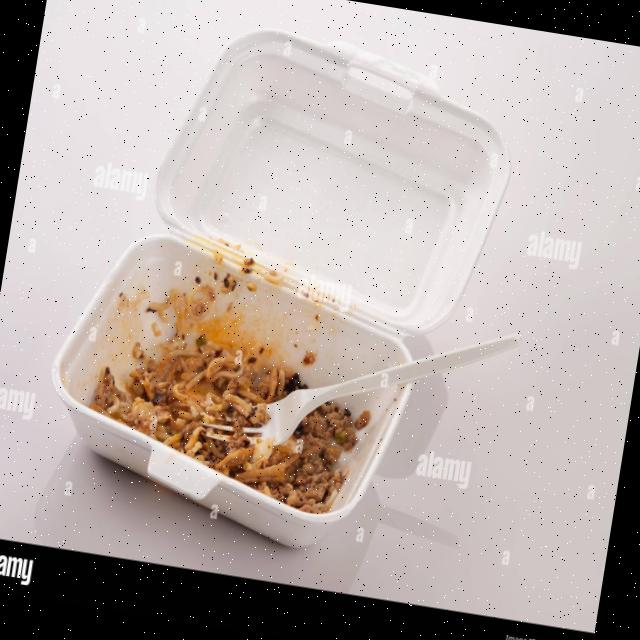styrofoam: (29, 1, 529, 574)
